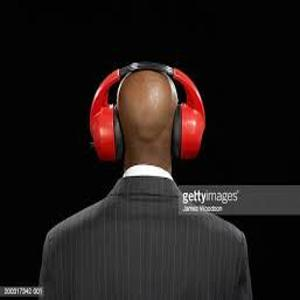Headphones: (87, 62, 206, 162)
